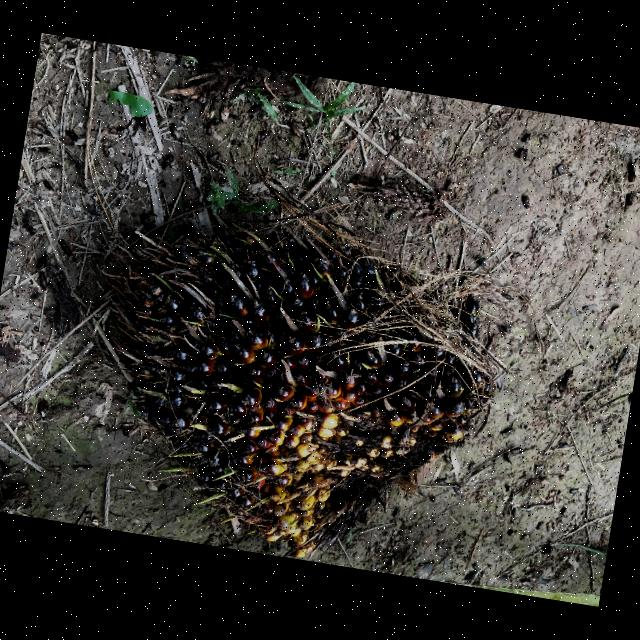Unripe: (134, 230, 492, 558)
